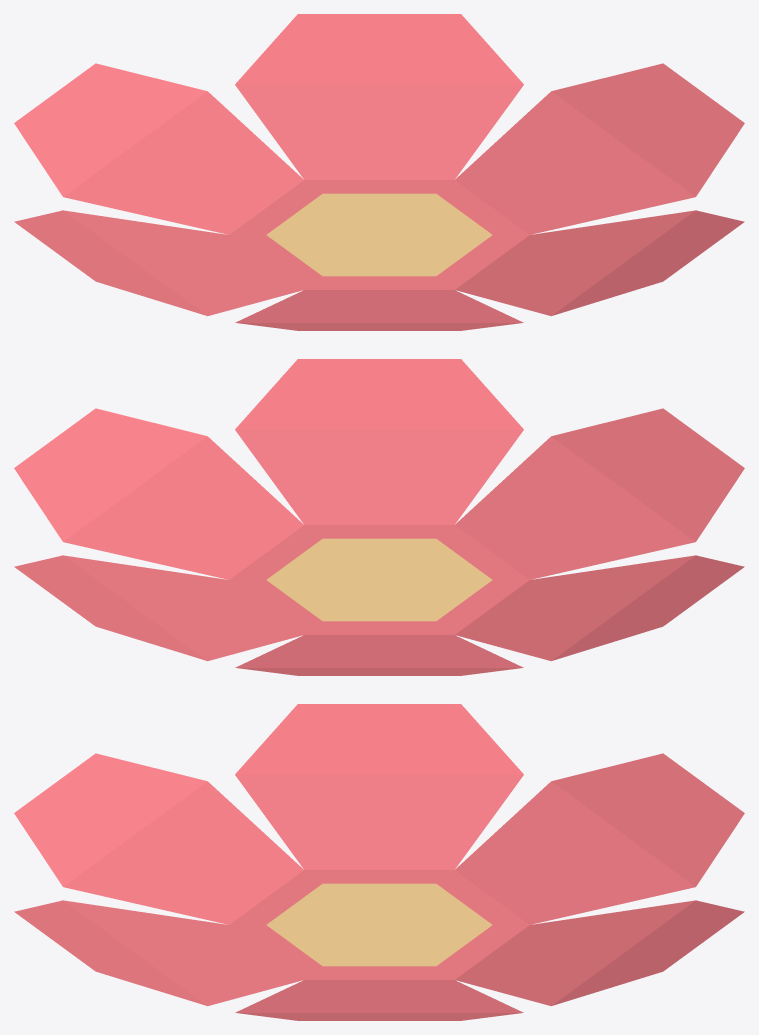
The model's file is flor.fbx.
3 renders of one model, top to bottom at view 1: azimuth 30°, elevation 25°; view 2: azimuth 150°, elevation 25°; view 3: azimuth 270°, elevation 25°, orthographic.
Visible parts, largest first — view 1: flor; view 2: flor; view 3: flor.
Part boxes in pixels (left/top/right/bottom): flor: left=14, top=14, right=744, bottom=330; flor: left=14, top=359, right=744, bottom=675; flor: left=14, top=704, right=744, bottom=1020.
Size of the model in its own units: 528 by 48.56 by 515.
